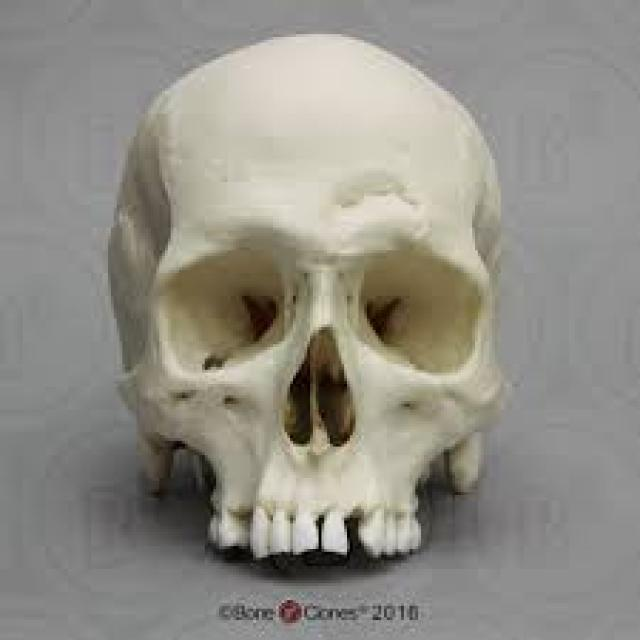skull: (88, 22, 562, 568)
